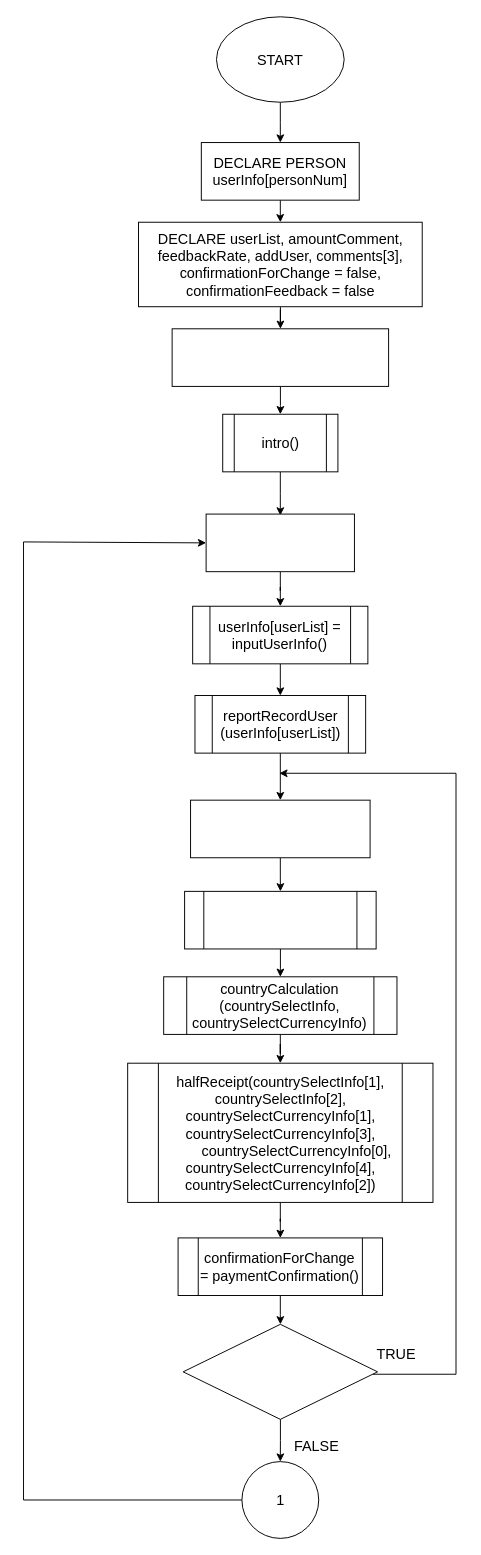
Some shapes in this 481 by 1555 pixel diagram are drawn without their labels. The centre of each missing label's shape, as x and y in pixels:
amountComment = 0 addUser = '0': (279,542)
confirmationForChange = false: (280,828)
countriesProvided (countrySelectInfo[0]): (280,919)
DECLARE countrySelectInfo[3][30], countrySelectCurrencyInfo[5]: (280,357)
WHILE (confirmationForChange == true): (280,1371)
